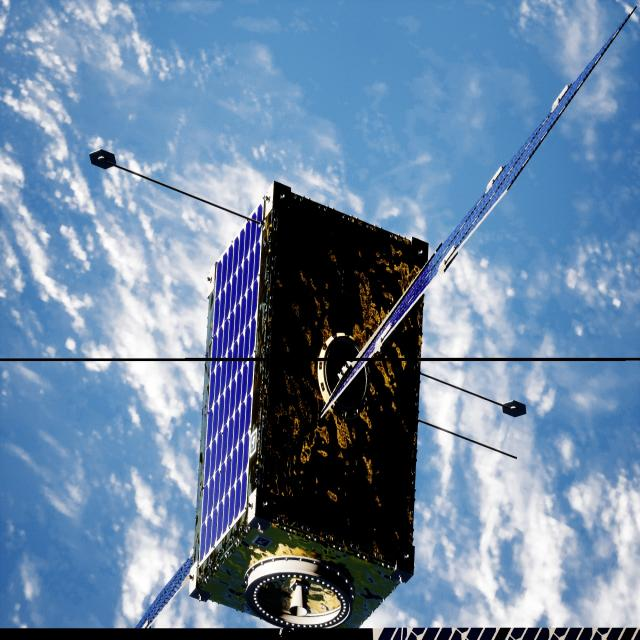medium_debris: (131, 90, 561, 629)
